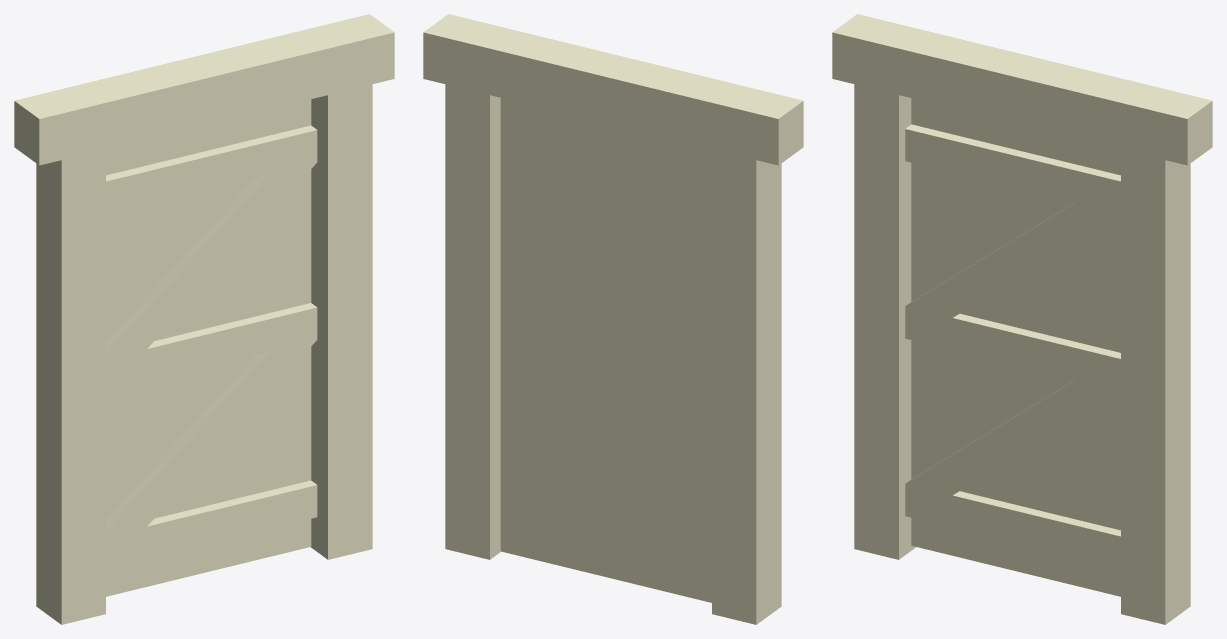
Rendered from puerta.fbx.
The picture shows the model from 3 angles, left to right: view 1: azimuth 30°, elevation 25°; view 2: azimuth 150°, elevation 25°; view 3: azimuth 330°, elevation 25°; orthographic projection.
Visible parts, largest first — view 1: Door, Door Frame; view 2: Door, Door Frame; view 3: Door, Door Frame.
Part boxes in pixels (box(x1,y1,x2,y2)): Door: box(106, 99, 317, 596); Door Frame: box(14, 14, 394, 624); Door: box(500, 98, 711, 602); Door Frame: box(423, 14, 803, 624); Door: box(905, 98, 1120, 596); Door Frame: box(832, 14, 1212, 624).
Bounding box in the file's own units: 163 × 224 × 20.
